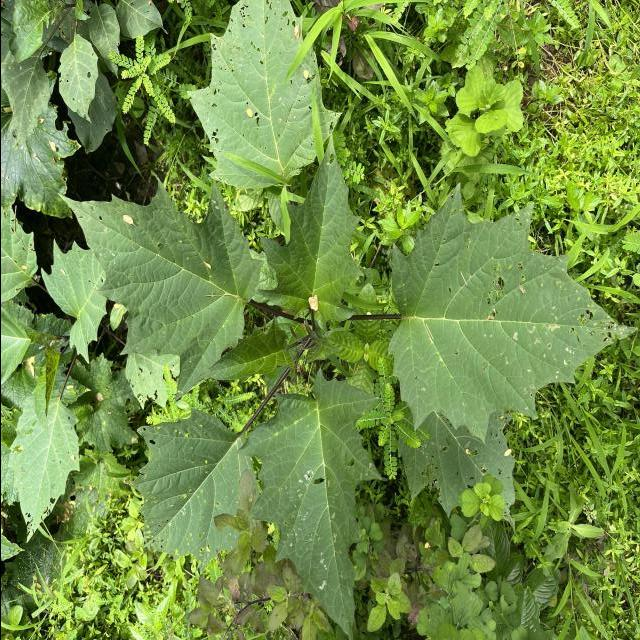Datura metal linn: (384, 180, 640, 448), (55, 176, 266, 408), (231, 365, 385, 640), (184, 0, 343, 193), (125, 405, 258, 581), (255, 128, 365, 338), (4, 390, 82, 544), (192, 314, 296, 384), (32, 338, 63, 442)
